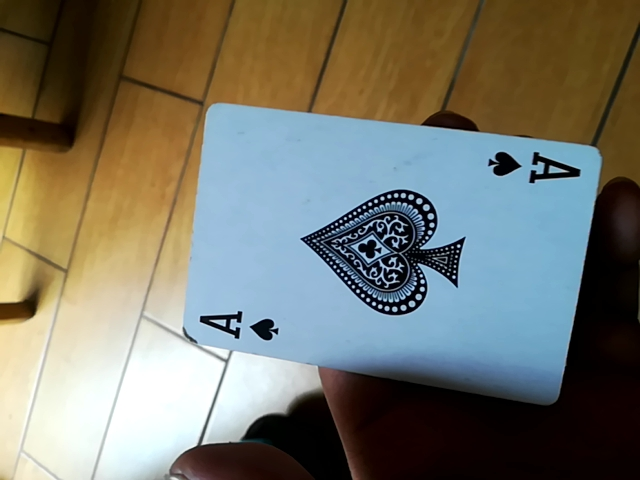ht a: (181, 103, 608, 409)
